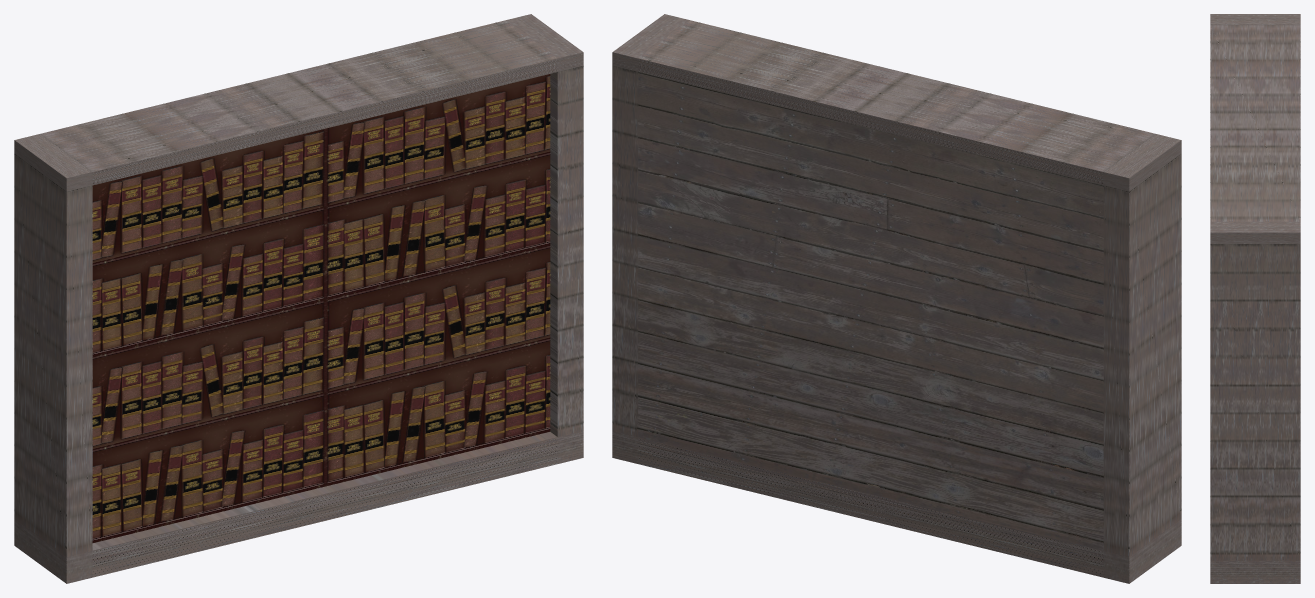
The model's file is Bookshelf.glb.
3 renders of one model, left to right at view 1: azimuth 30°, elevation 25°; view 2: azimuth 150°, elevation 25°; view 3: azimuth 270°, elevation 25°, orthographic. The views are drawn at different scales.
Visible parts, largest first — view 1: Cube.001, Cube; view 2: Cube; view 3: Cube.
Part boxes in pixels (x1,y1,x2,y2): Cube.001: (92, 74, 550, 542); Cube: (14, 14, 583, 583); Cube: (612, 14, 1181, 583); Cube: (1210, 14, 1300, 583).
Size of the model in its own units: 4 by 3 by 0.7.
Materials: 2 (2 with a texture image).
